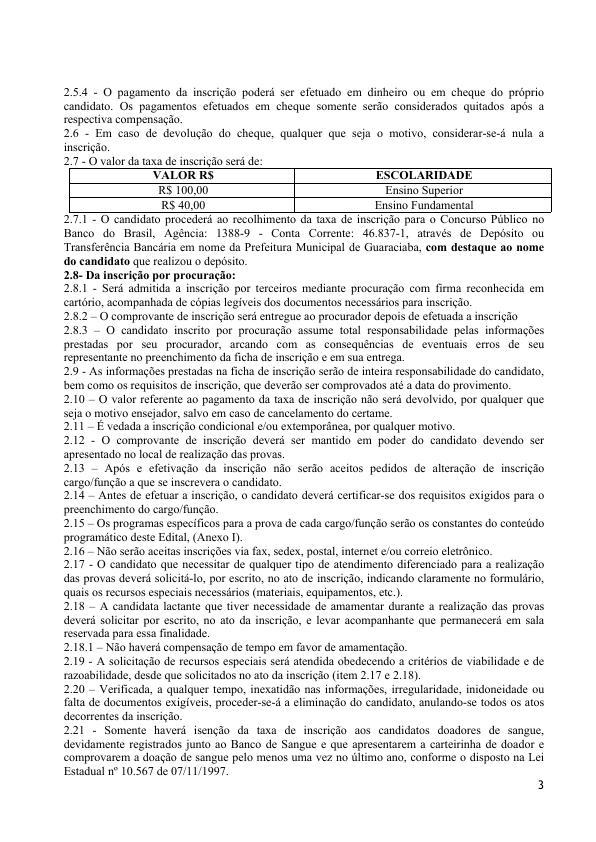table: (68, 166, 553, 214)
text: (62, 214, 547, 778), (61, 82, 548, 165)
